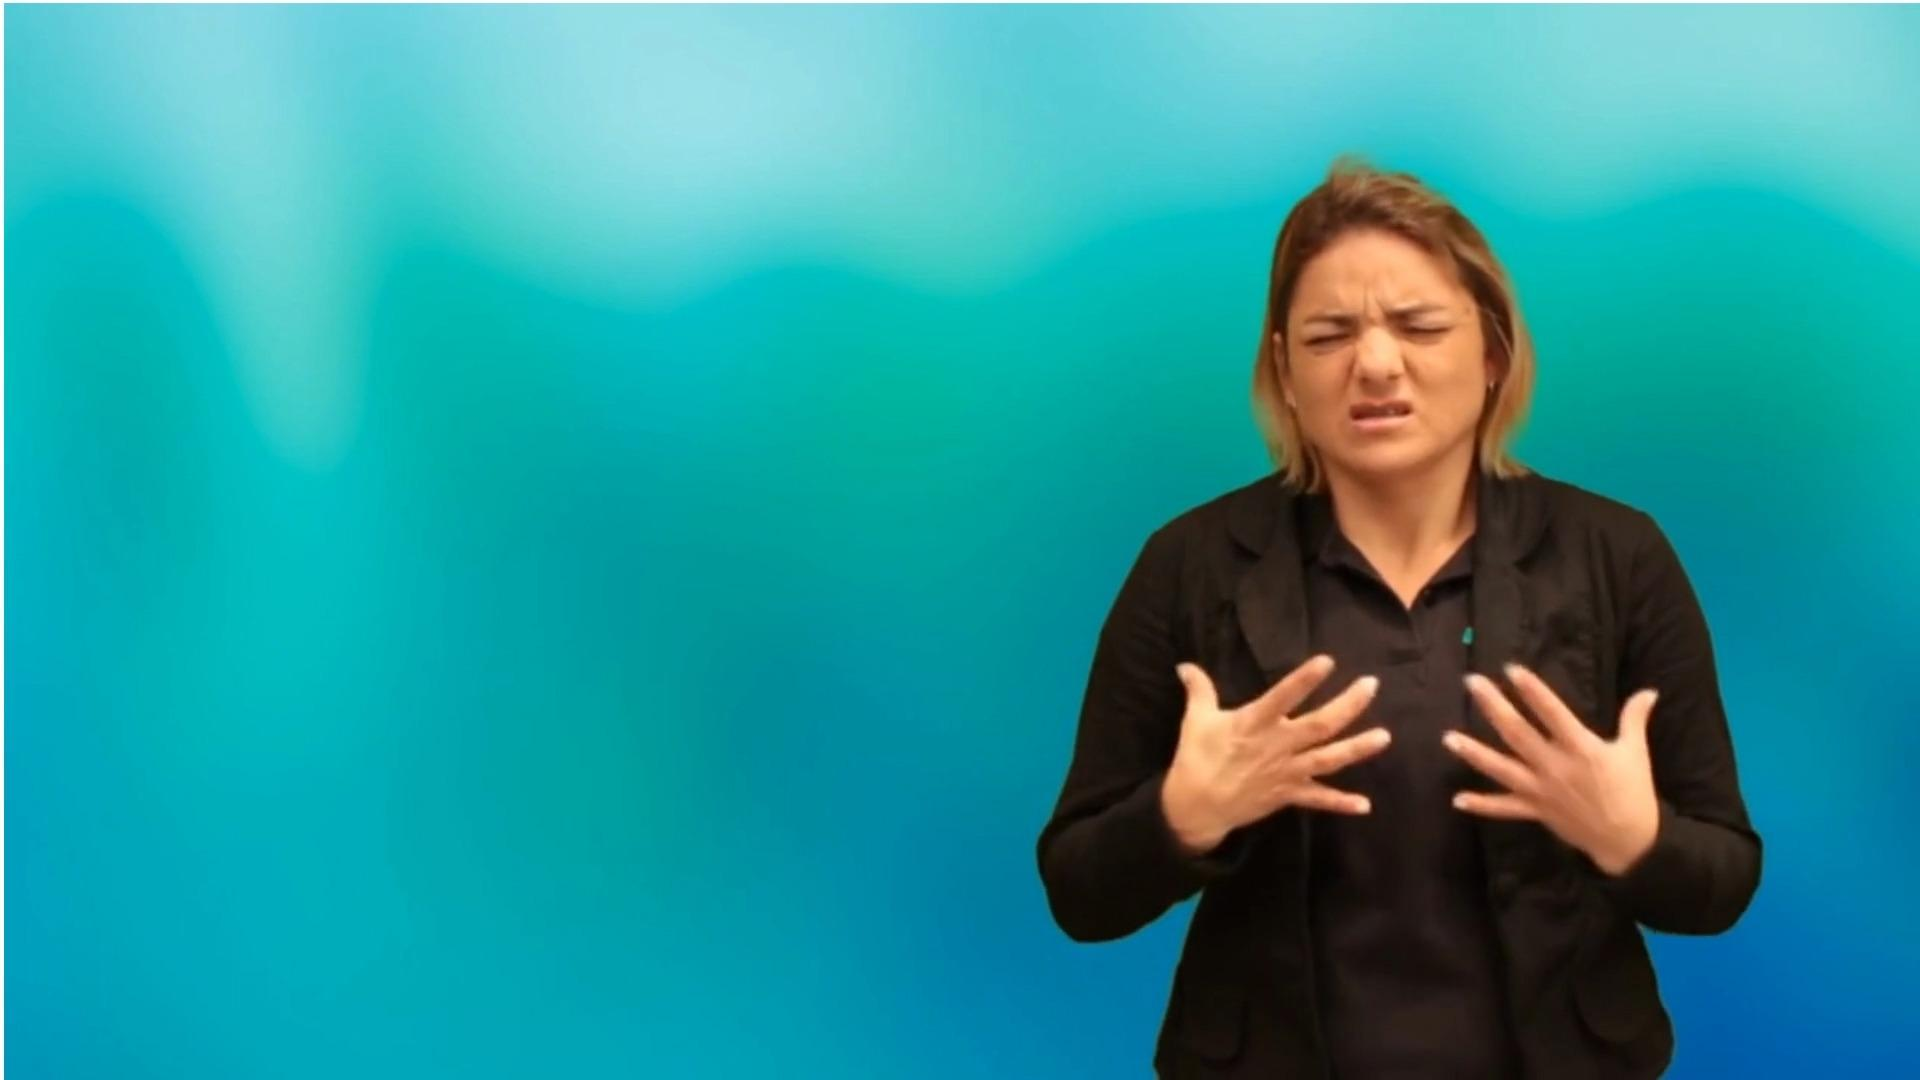Dolor: (1017, 111, 1799, 1052)
